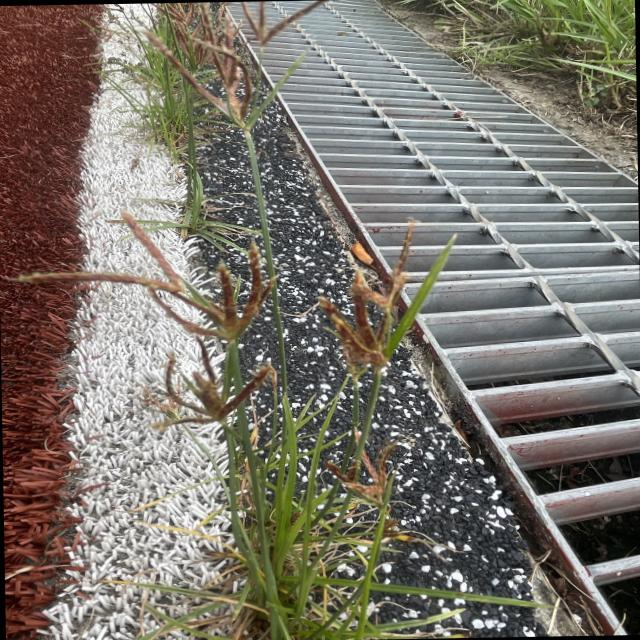cyperus: (13, 0, 456, 546), (11, 199, 276, 428), (140, 0, 348, 159), (306, 205, 460, 398), (310, 420, 428, 518)
